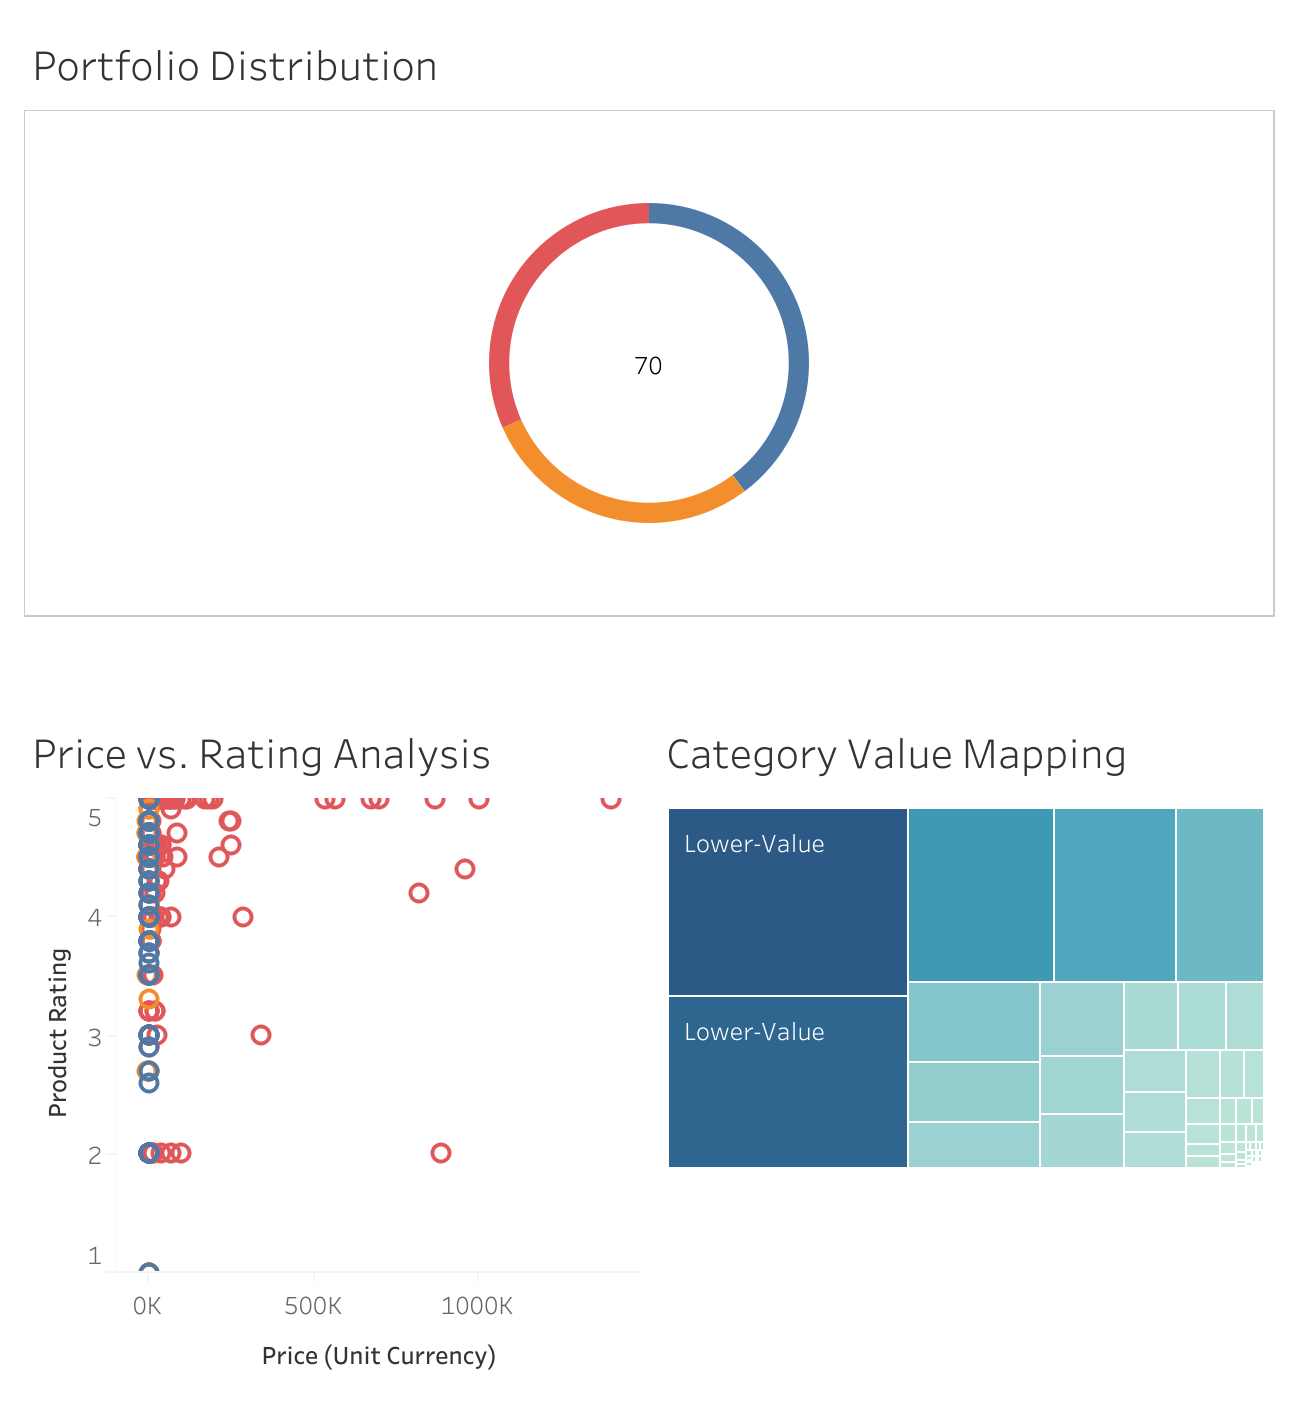

What the dashboard file says about the page in this screenshot:
{"tool":"tableau","page":{"name":"Dashboard 1","canvas":[650,860],"ordinal":0},"visuals":[{"type":"worksheet","title":"Portfolio Distribution","mark":"Pie","cols":["Calculation_4083649514295297","Calculation_4083649514340355"],"box":[8,8.6,634,372.7]},{"type":"blank","box":[8,381.3,634,48.7]},{"type":"worksheet","title":"Price vs. Rating Analysis","mark":"Automatic","rows":["product_rating"],"cols":["price"],"box":[8,430,317,421.4]},{"type":"worksheet","title":"Category Value Mapping","mark":"Automatic","box":[325,430,317,421.4]}]}

Visuals, with their boxes on the page's 650x860 design canvas (x1, y1, x2, y2). These are canvas units, not pixel positions in the 1298x1408 screenshot, which may show the page scaled, cropped or inside an application window:
"Portfolio Distribution" worksheet (Pie marks): [x1=8, y1=9, x2=642, y2=381]
blank: [x1=8, y1=381, x2=642, y2=430]
"Price vs. Rating Analysis" worksheet: [x1=8, y1=430, x2=325, y2=851]
"Category Value Mapping" worksheet: [x1=325, y1=430, x2=642, y2=851]
